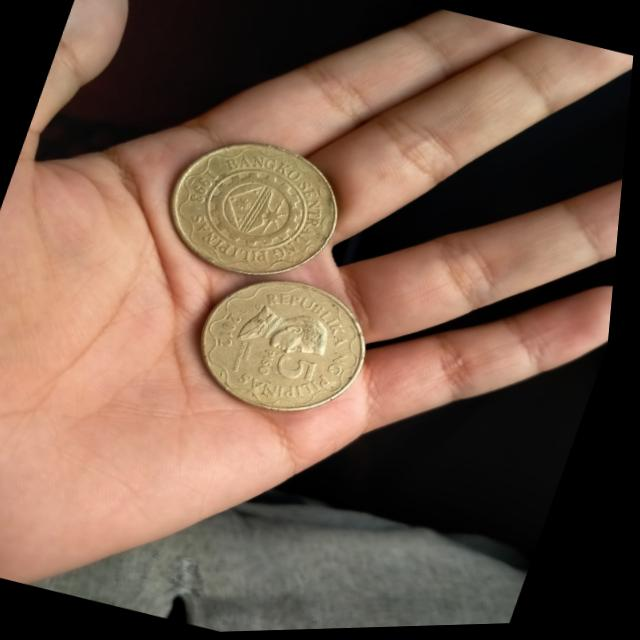5_Old_Back: (154, 123, 361, 301)
5_Old_Front: (248, 333, 333, 398)
